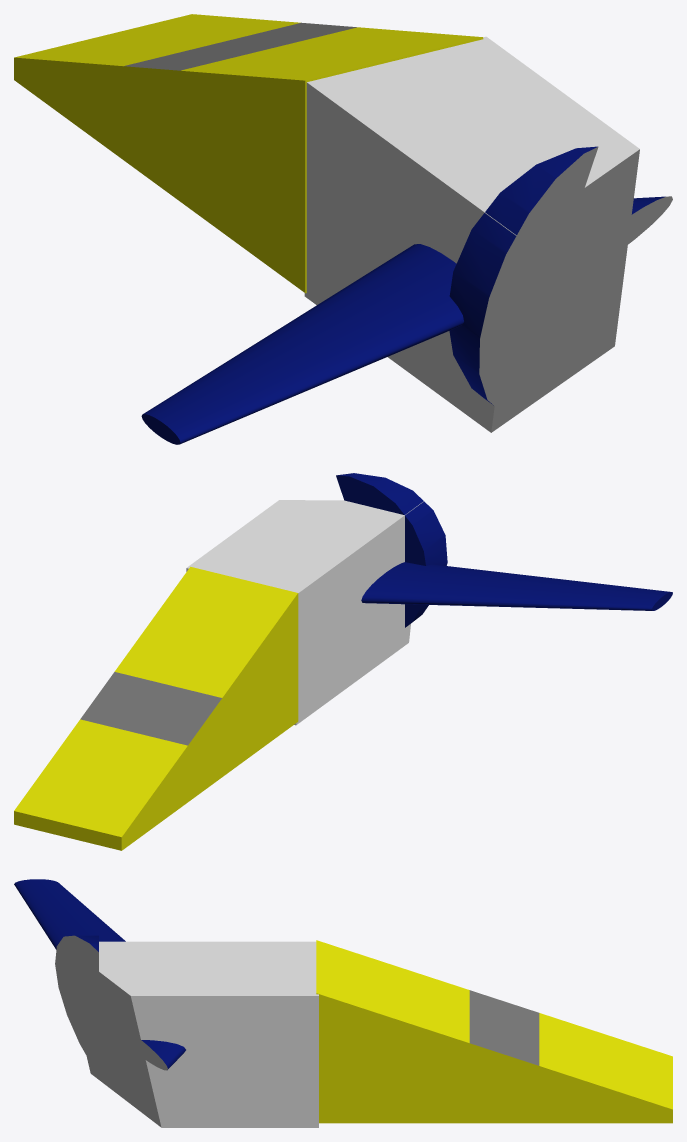
File: spaceship_half1.fbx
3 views of the same model, one above another, from view 1: azimuth 30°, elevation 25°; view 2: azimuth 150°, elevation 25°; view 3: azimuth 270°, elevation 25° (orthographic). The views are drawn at different scales.
Parts seen in each view (by area): view 1: polySurface15; view 2: polySurface15; view 3: polySurface15.
Boxes of the visible parts, bbox=[...] form: polySurface15: bbox=[14, 14, 672, 444]; polySurface15: bbox=[14, 473, 672, 850]; polySurface15: bbox=[14, 879, 672, 1127].
Size of the model in its own units: 314 by 124 by 472.
